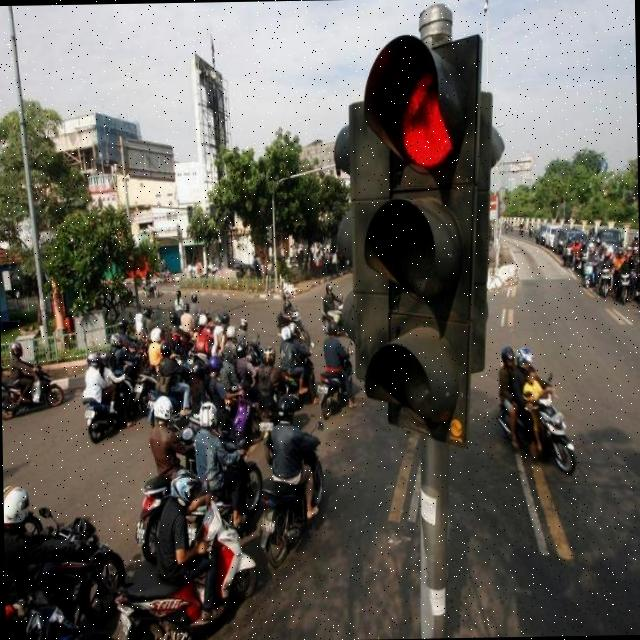Czerwone swiatlo: (368, 39, 469, 438)
